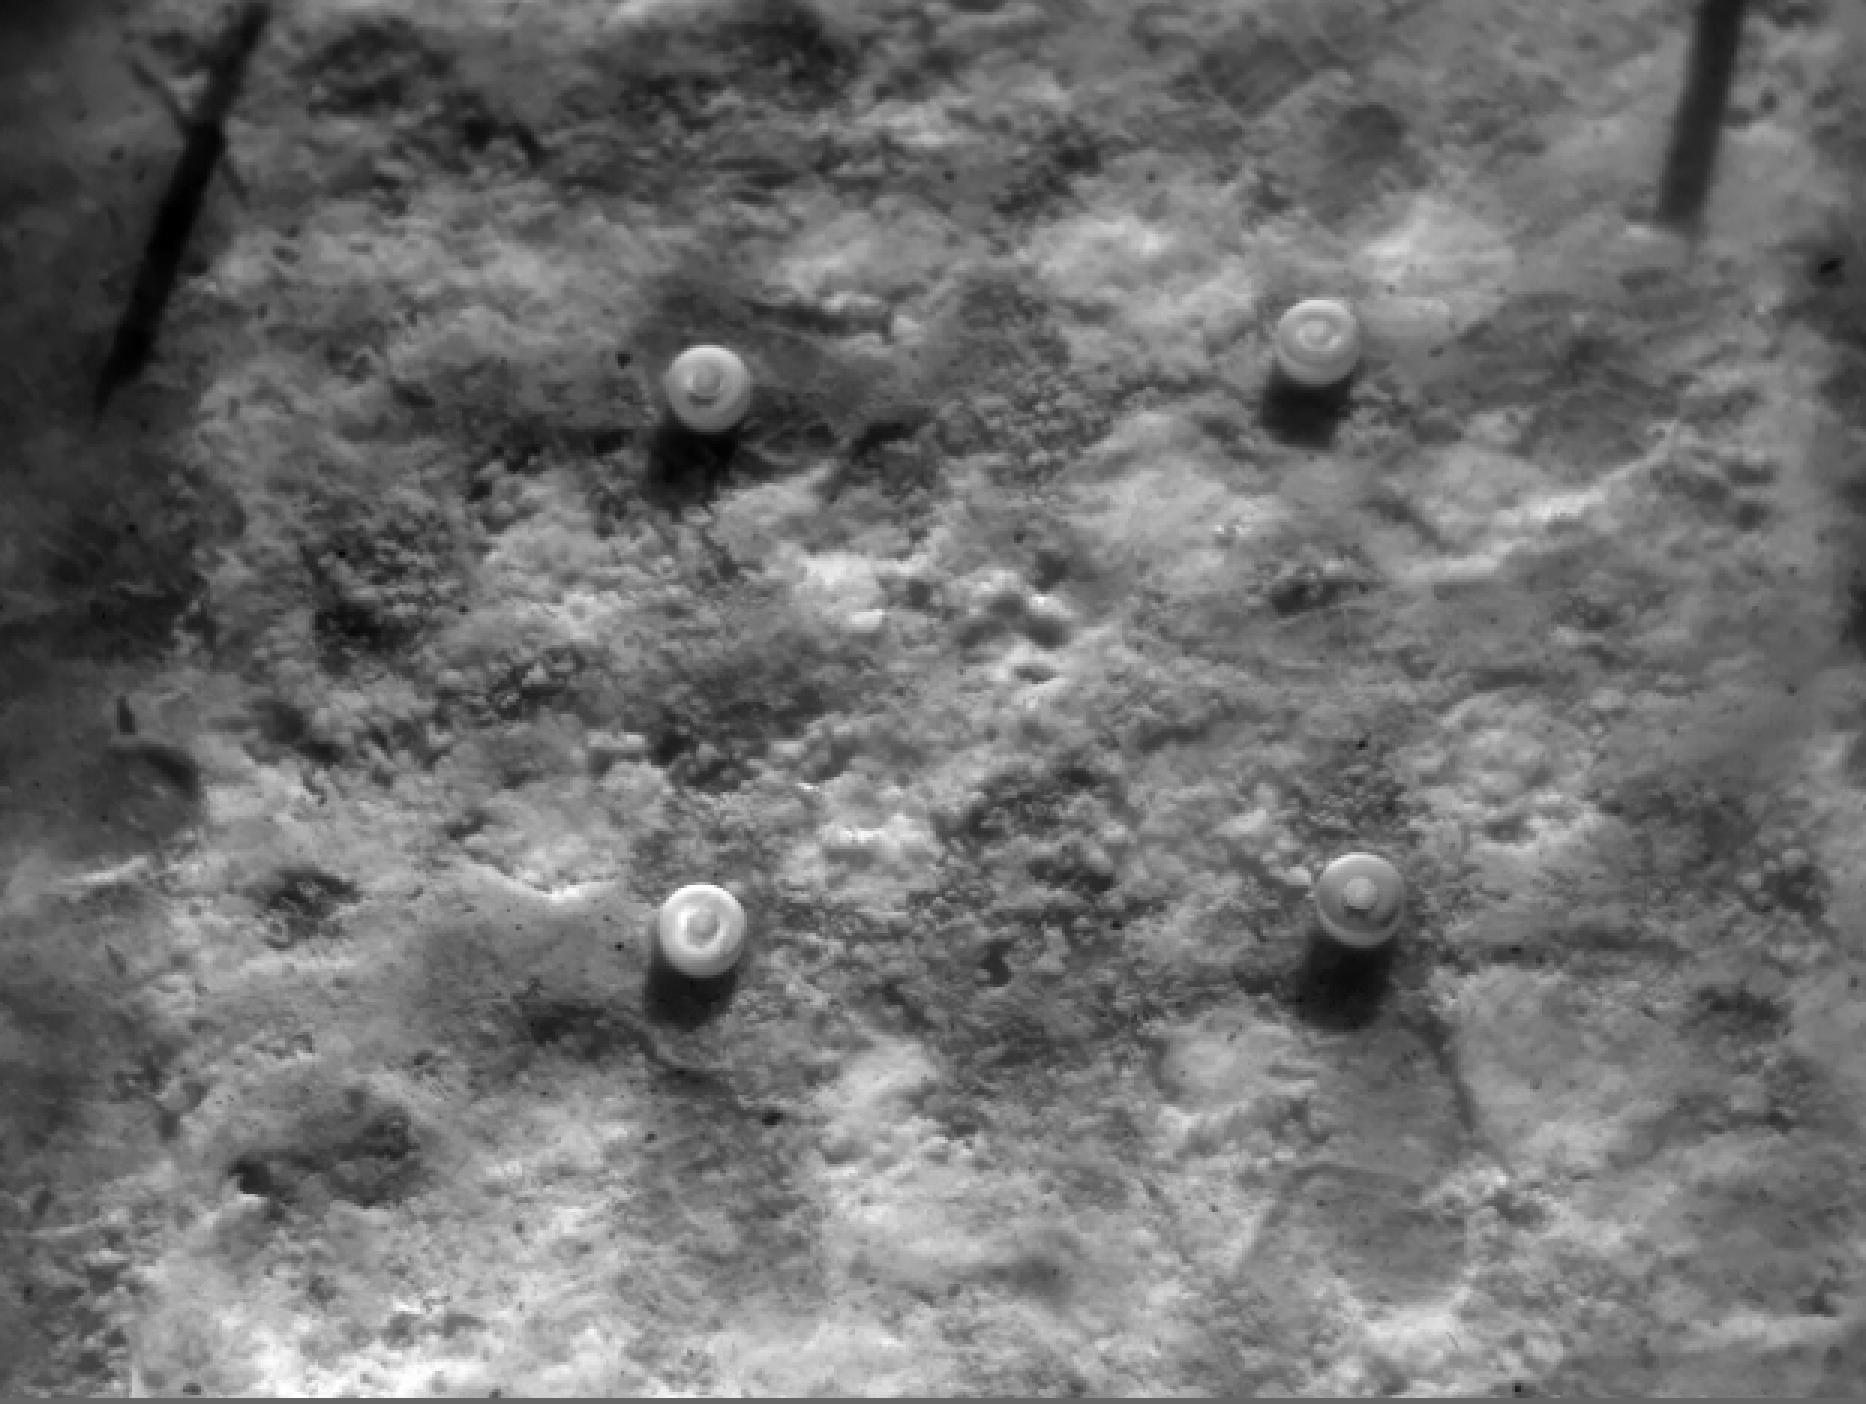mines-gjV8: (1308, 838, 1416, 970), (648, 885, 755, 987), (662, 332, 752, 432), (1272, 298, 1373, 386)
